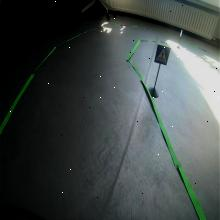crosswalk: (154, 44, 170, 66)
